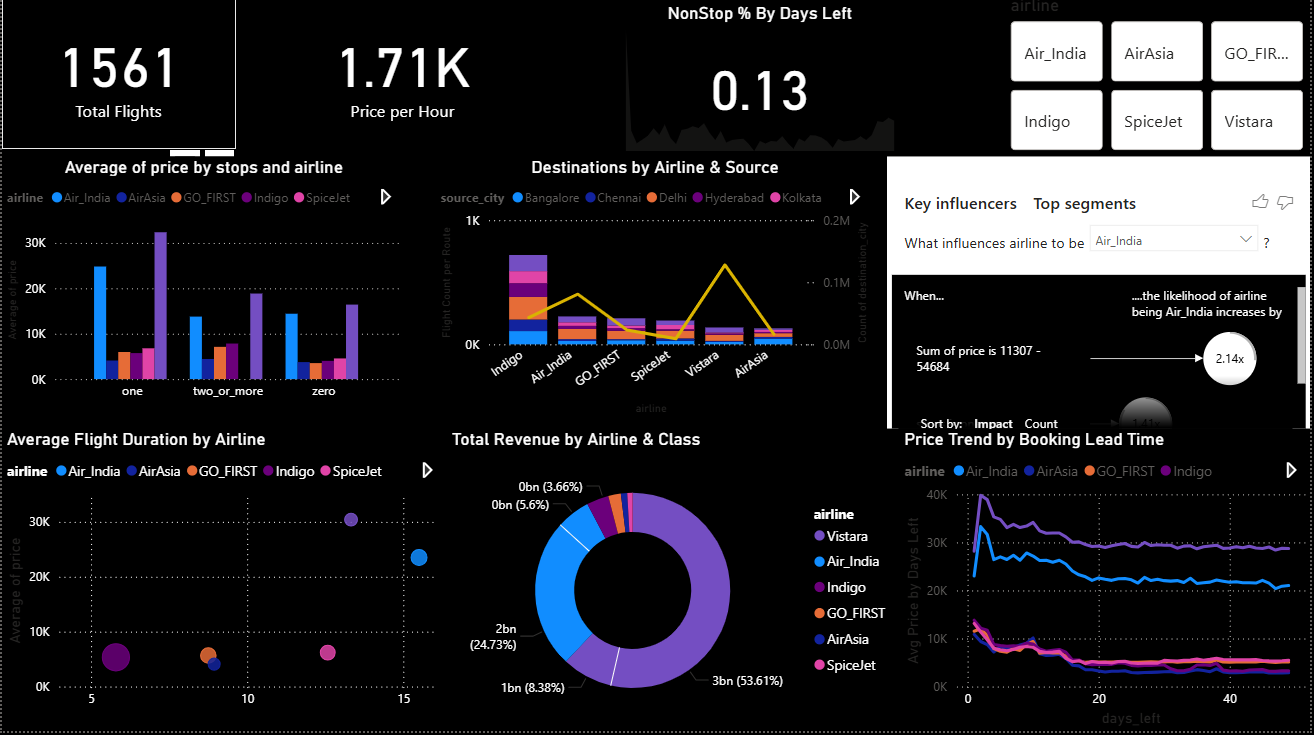

This screenshot's page, from the dashboard's own definition file:
{"tool":"powerbi","page":{"name":"Page 1","canvas":[1280,720],"ordinal":0},"visuals":[{"type":"card","fields":{"Values":["airlines_flights_data.Total Flights"]},"box":[0,0,228.7,150.4],"z":0},{"type":"card","fields":{"Values":["airlines_flights_data.Price per Hour"]},"box":[277.6,0,228.7,150.4],"z":1000},{"type":"scatterChart","title":"Average Flight Duration by Airline","fields":{"X":["airlines_flights_data.Avg Duration per Airline"],"Y":["Avg(airlines_flights_data.price)"],"Series":["airlines_flights_data.airline"],"Size":["airlines_flights_data.Flight Count per Route"]},"box":[0,424.3,435.3,295.9],"z":2000},{"type":"lineChart","title":"Price Trend by Booking Lead Time","fields":{"Category":["airlines_flights_data.days_left"],"Y":["airlines_flights_data.Avg Price by Days Left"],"Series":["airlines_flights_data.airline"]},"box":[878,424.3,402.3,295.9],"z":3000},{"type":"donutChart","title":"Total Revenue by Airline & Class","fields":{"Category":["airlines_flights_data.airline"],"Series":["airlines_flights_data.class"],"Y":["Sum(airlines_flights_data.price)"]},"box":[435.3,424.3,442.7,295.9],"z":4000},{"type":"kpi","title":"NonStop % By Days Left","fields":{"Indicator":["airlines_flights_data.NonStop %"],"TrendLine":["airlines_flights_data.days_left"]},"box":[605.3,7.3,272.7,150.4],"z":5000},{"type":"clusteredColumnChart","fields":{"Y":["Avg(airlines_flights_data.price)"],"Category":["airlines_flights_data.stops"],"Series":["airlines_flights_data.airline"]},"box":[0,157.7,395,258],"z":6000},{"type":"advancedSlicerVisual","fields":{"Values":["airlines_flights_data.airline"]},"box":[981.9,0,298.4,157.7],"z":7000},{"type":"lineStackedColumnComboChart","title":"Destinations by Airline & Source","fields":{"Y":["airlines_flights_data.Flight Count per Route","select"],"Category":["airlines_flights_data.airline"],"Y2":["CountNonNull(airlines_flights_data.destination_city)"],"Series":["airlines_flights_data.source_city"]},"box":[424.3,157.7,429.2,258],"z":8000},{"type":"keyDriversVisual","title":"Impact of Stops on Airline Price & Duration","fields":{"Target":["airlines_flights_data.airline"],"ExplainBy":["Sum(airlines_flights_data.duration)","airlines_flights_data.stops","Sum(airlines_flights_data.price)"]},"box":[865.8,157.7,414.5,266.6],"z":9000}]}

Visuals, with their boxes in screenshot pixels (x1, y1, x2, y2), scaled from the page's 1280x720 canvas onto the 1314x735 screenshot:
card - airlines_flights_data.Total Flights: (0,0,235,154)
card - airlines_flights_data.Price per Hour: (285,0,520,154)
"Average Flight Duration by Airline" scatterChart: (0,433,447,734)
"Price Trend by Booking Lead Time" lineChart: (901,433,1313,734)
"Total Revenue by Airline & Class" donutChart: (447,433,901,734)
"NonStop % By Days Left" kpi: (621,7,901,161)
clusteredColumnChart - Avg(airlines_flights_data.price) x airlines_flights_data.stops: (0,161,405,424)
advancedSlicerVisual - airlines_flights_data.airline: (1008,0,1313,161)
"Destinations by Airline & Source" lineStackedColumnComboChart: (436,161,876,424)
"Impact of Stops on Airline Price & Duration" keyDriversVisual: (889,161,1313,433)
